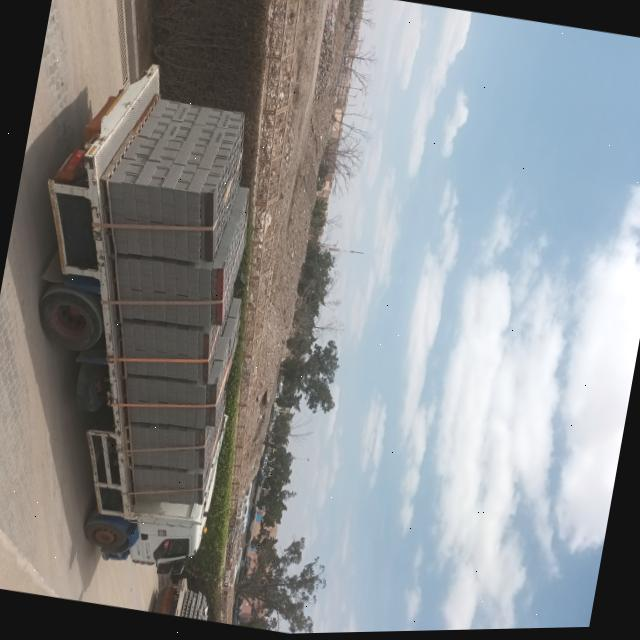bricks: (107, 100, 248, 518)
